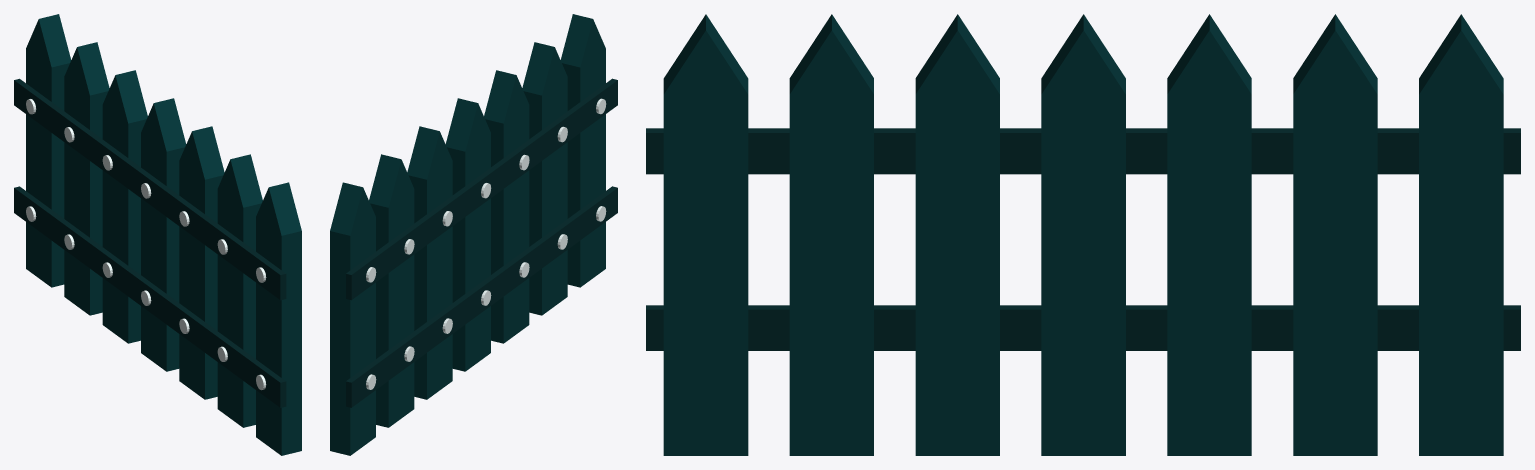
The model's file is Cfence.fbx.
3 renders of one model, left to right at view 1: azimuth 30°, elevation 25°; view 2: azimuth 150°, elevation 25°; view 3: azimuth 270°, elevation 25°, orthographic. The views are drawn at different scales.
Parts seen in each view (by area): view 1: Planks, Boards, Bolts; view 2: Planks, Boards, Bolts; view 3: Planks, Boards.
Part boxes in pixels (x1,y1,x2,y2): Planks: [26, 14, 301, 455]; Boards: [14, 78, 286, 407]; Bolts: [26, 99, 266, 390]; Planks: [330, 14, 605, 455]; Boards: [346, 78, 617, 407]; Bolts: [366, 98, 606, 389]; Planks: [663, 14, 1503, 455]; Boards: [646, 128, 1520, 350].
Bounding box in the file's own units: 48.64 × 410 × 765.
